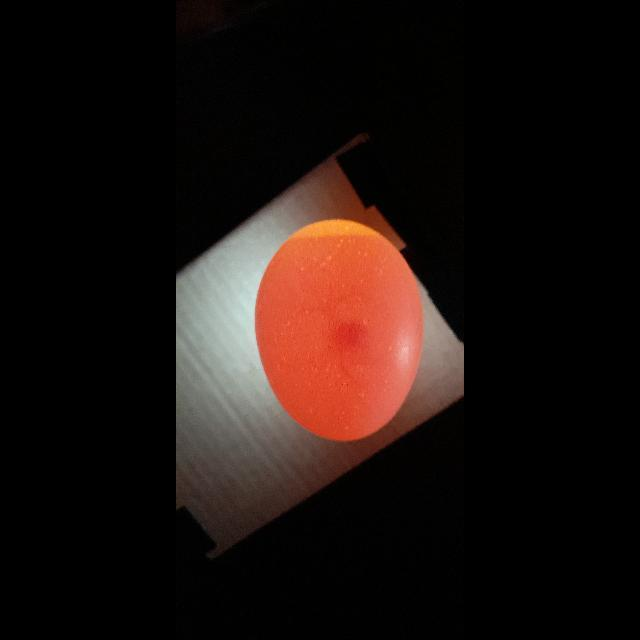Fertile: (260, 220, 422, 440)
